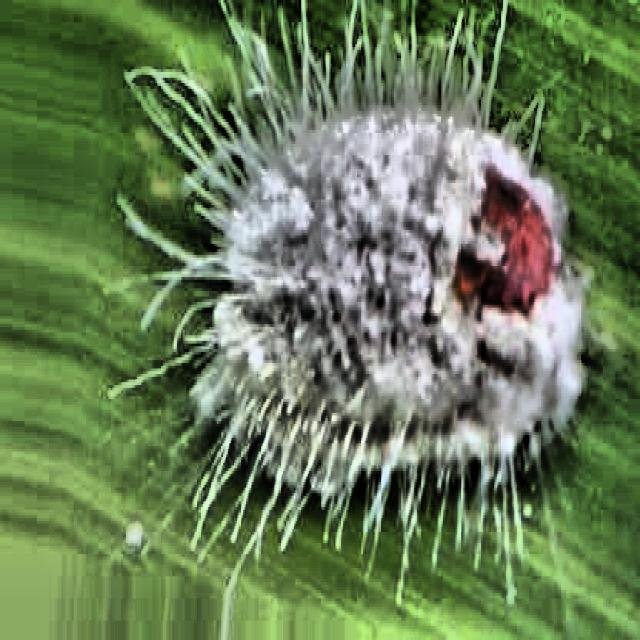Mealy-bug: (134, 8, 628, 609)
